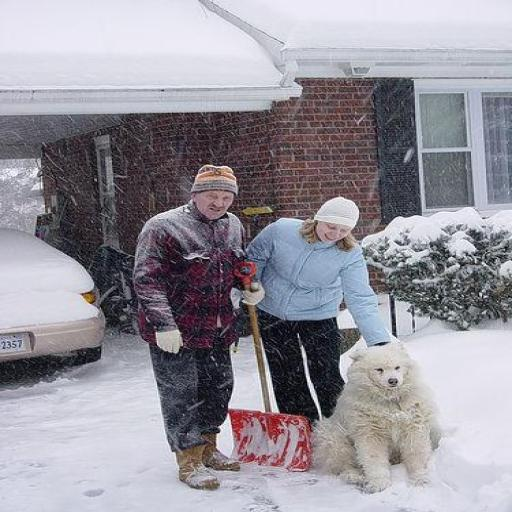dog_face: (348, 344, 417, 396)
